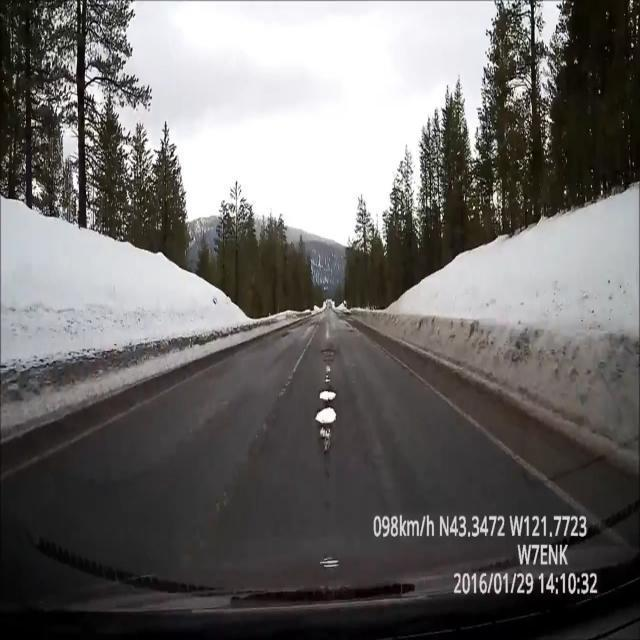pothole: (315, 381, 341, 463), (319, 341, 342, 373)
